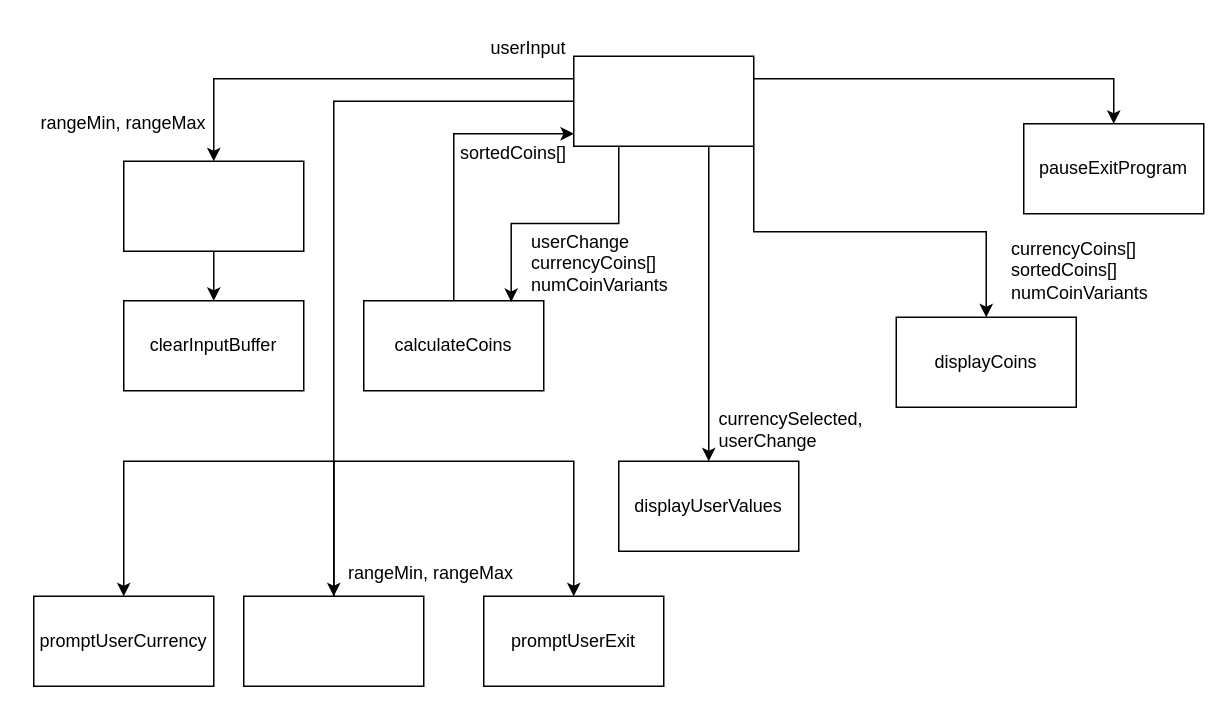
The diagram is 1230 pixels wide and 713 high, and some of its shapes have lost their labels. Here are the shapes that lost their labels. From the top down, the centre of each, then its label:
At (x=663, y=100): "MAIN".
At (x=213, y=205): "getUserInput".
At (x=333, y=640): "promptUserChange".
